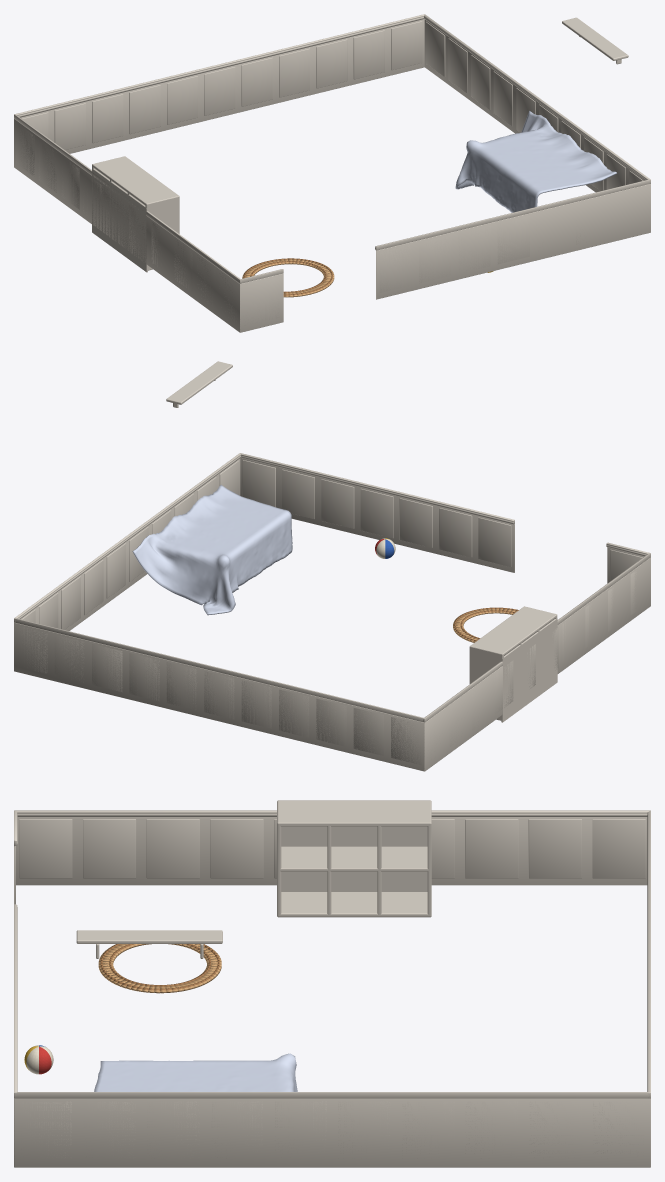
File: LobbyKit5.fbx
3 views of the same model, one above another, from view 1: azimuth 30°, elevation 25°; view 2: azimuth 150°, elevation 25°; view 3: azimuth 270°, elevation 25° (orthographic). The views are drawn at different scales.
Visible parts, largest first — view 1: LK_Wainscot_Paint, LK_Bed_Quilt, LK_Shelves_Paint, LK_FloorToys_Pal; view 2: LK_Wainscot_Paint, LK_Bed_Quilt, LK_Shelves_Paint, LK_FloorToys_Pal; view 3: LK_Wainscot_Paint, LK_Shelves_Paint, LK_Bed_Quilt, LK_FloorToys_Pal.
Boxes of the visible parts, left/top/right/bottom form: LK_Wainscot_Paint: left=14, top=14, right=650, bottom=332; LK_Bed_Quilt: left=455, top=110, right=616, bottom=212; LK_Shelves_Paint: left=92, top=17, right=628, bottom=272; LK_FloorToys_Pal: left=242, top=258, right=493, bottom=297; LK_Wainscot_Paint: left=14, top=453, right=650, bottom=771; LK_Bed_Quilt: left=132, top=485, right=292, bottom=615; LK_Shelves_Paint: left=166, top=361, right=557, bottom=722; LK_FloorToys_Pal: left=375, top=538, right=518, bottom=642; LK_Wainscot_Paint: left=14, top=810, right=650, bottom=1167; LK_Shelves_Paint: left=76, top=800, right=431, bottom=958; LK_Bed_Quilt: left=94, top=1053, right=297, bottom=1091; LK_FloorToys_Pal: left=24, top=944, right=221, bottom=1074.
Size of the model in its own units: 32000 by 12663 by 30500.
